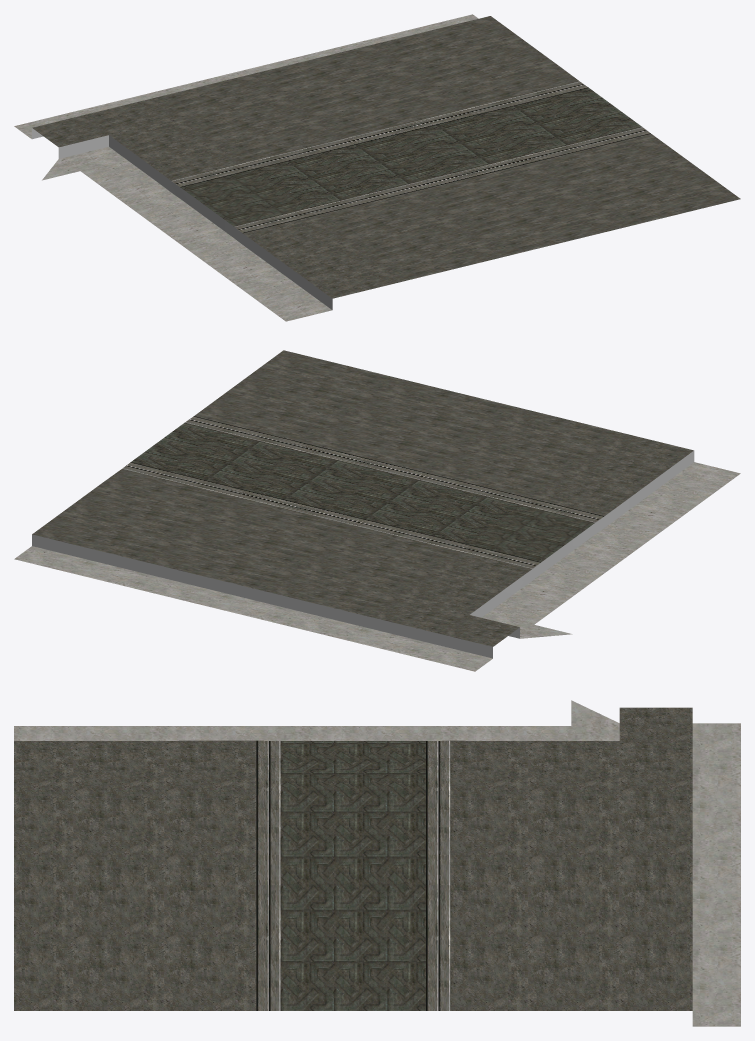
Rendered from DWARF_PALACE_MAINHALL_FLOOR05.obj.
3 views of the same model, one above another, from view 1: azimuth 30°, elevation 25°; view 2: azimuth 150°, elevation 25°; view 3: azimuth 270°, elevation 25° (orthographic). The views are drawn at different scales.
Visible parts, largest first — view 1: ainhall_floor05; view 2: ainhall_floor05; view 3: ainhall_floor05.
Boxes of the visible parts, x1=… form: ainhall_floor05: x1=14, y1=14, x2=740, y2=321; ainhall_floor05: x1=14, y1=350, x2=740, y2=671; ainhall_floor05: x1=14, y1=700, x2=740, y2=1026.
Bounding box in the file's own units: 3188 × 71.29 × 3000.
